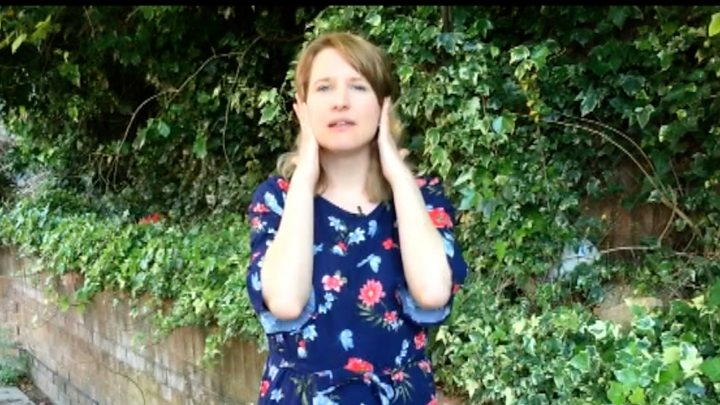without_mask: (294, 41, 397, 162)
